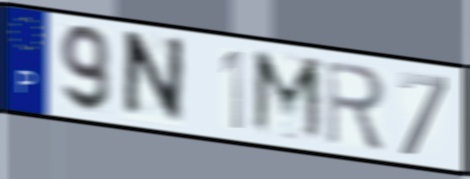1: (220, 48, 245, 132)
7: (397, 69, 450, 158)
9: (56, 23, 114, 116)
M: (249, 46, 328, 147)
N: (119, 28, 187, 127)
R: (324, 57, 389, 153)
